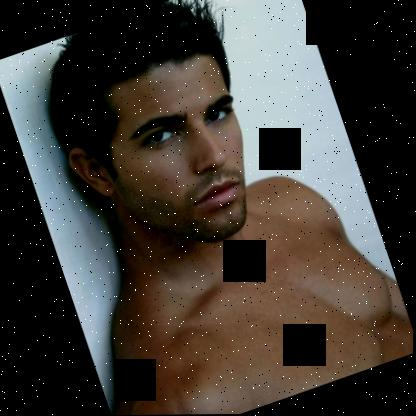Male: (48, 41, 275, 280)
